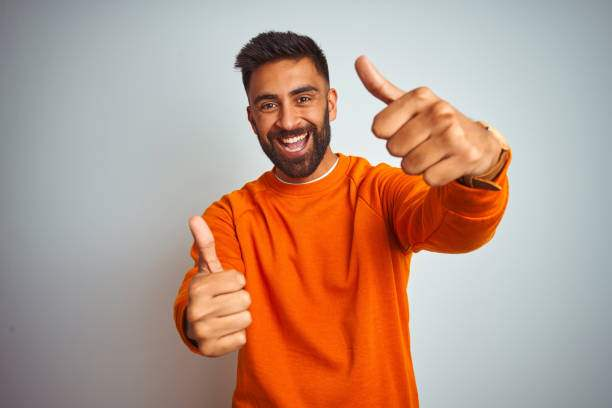ThumbUp: (353, 53, 471, 190)
